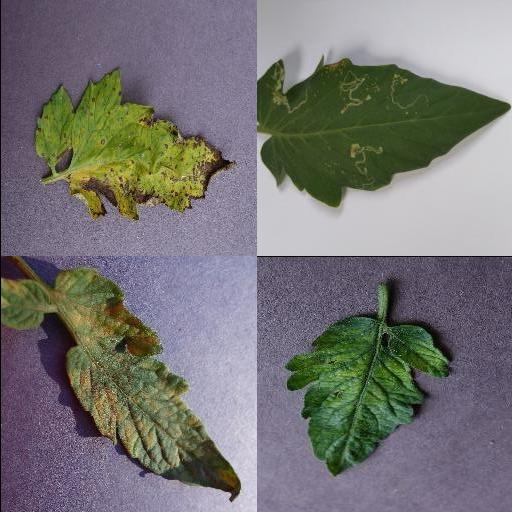Leaf Miner: (256, 57, 511, 207)
Leaf Mold: (54, 267, 240, 501), (0, 279, 50, 331)
Mosaic Virus: (283, 315, 453, 477)
Septoria: (34, 67, 236, 223)
